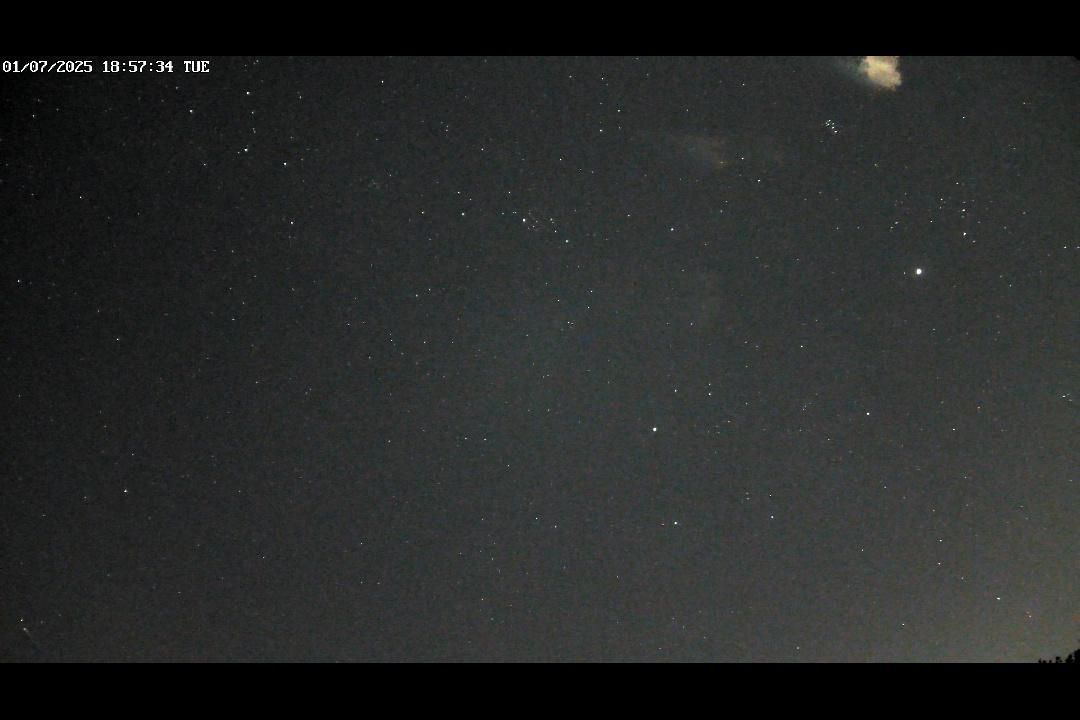Plane: (19, 625, 47, 652)
